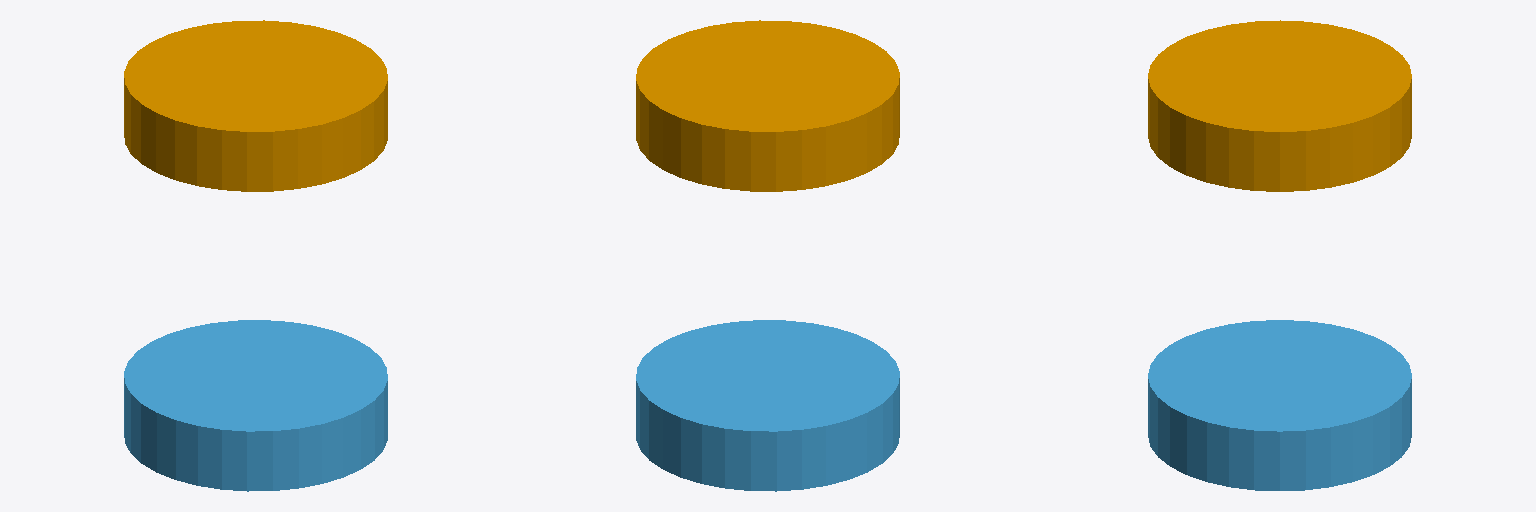
robot.urdf — testbot:
<?xml version="1.0" ?>
<!-- =================================================================================== -->
<!-- |    This document was autogenerated by xacro from ray_bot.urdf.xacro             | -->
<!-- |    EDITING THIS FILE BY HAND IS NOT RECOMMENDED                                 | -->
<!-- =================================================================================== -->
<robot name="testbot" xmlns:controller="http://playerstage.sourceforge.net/gazebo/xmlschema/#controller" xmlns:interface="http://playerstage.sourceforge.net/gazebo/xmlschema/#interface" xmlns:sensor="http://playerstage.sourceforge.net/gazebo/xmlschema/#sensor" xmlns:xacro="http://playerstage.sourceforge.net/gazebo/xmlschema/#interface">
  <link name="base_laser_link">
    <visual>
      <origin rpy="0 0 0" xyz="0 0 0"/>
      <geometry>
        <cylinder length="0.02" radius="0.04"/>
      </geometry>
      <material name="Black"/>
    </visual>
    <collision>
      <origin rpy="0 0 0" xyz="0 0 0"/>
      <geometry>
        <cylinder length="0.02" radius="0.08"/>
      </geometry>
    </collision>
    <!-- nonesense placeholder inertia -->
    <inertial>
      <mass value="0.1"/>
      <origin rpy="0 0 0" xyz="0 0 0"/>
      <inertia ixx="0.01" ixy="0.0" ixz="0.0" iyy="0.01" iyz="0.0" izz="0.01"/>
    </inertial>
    <gazebo reference="base_laser_link">
      <sensor name="base_laser" type="ray">
        <update_rate>20</update_rate>
        <topic>base_laser_topic</topic>
        <visualize>true</visualize>
        <ray>
          <scan>
            <horizontal>
              <samples>360</samples>
              <resolution>1.0</resolution>
              <min_angle>-3.1</min_angle>
              <max_angle>3.1</max_angle>
            </horizontal>
          </scan>
          <range>
            <min>0.1</min>
            <max>4.0</max>
            <resolution> 0.01</resolution>
          </range>
        </ray>
        <plugin filename="libgazebo_ros_laser.so" name="base_laser_laser_plugin">
          <gaussianNoise>0.005</gaussianNoise>
          <topicName>base_laser/scan</topicName>
          <updateRate>20</updateRate>
          <frameName>base_laser_link</frameName>
        </plugin>
      </sensor>
    </gazebo>
  </link>
  <gazebo reference="base_laser_link">
    <sensor name="base_laser" type="ray">
      <update_rate>20</update_rate>
      <topic>base_laser_topic</topic>
      <visualize>true</visualize>
      <ray>
        <scan>
          <horizontal>
            <samples>360</samples>
            <resolution>1.0</resolution>
            <min_angle>-3.1</min_angle>
            <max_angle>3.1</max_angle>
          </horizontal>
        </scan>
        <range>
          <min>0.1</min>
          <max>4.0</max>
          <resolution> 0.01</resolution>
        </range>
      </ray>
      <plugin filename="libgazebo_ros_laser.so" name="base_laser_laser_plugin">
        <gaussianNoise>0.005</gaussianNoise>
        <topicName>base_laser/scan</topicName>
        <updateRate>20</updateRate>
        <frameName>base_laser_link</frameName>
      </plugin>
    </sensor>
  </gazebo>
  <link name="base_link">
    <visual>
      <origin rpy="0 0 0" xyz="0 0 0"/>
      <geometry>
        <cylinder length="0.02" radius="0.04"/>
      </geometry>
      <material name="Black"/>
    </visual>
    <collision>
      <origin rpy="0 0 0" xyz="0 0 0"/>
      <geometry>
        <cylinder length="0.02" radius="0.08"/>
      </geometry>
    </collision>
    <!-- nonesense placeholder inertia -->
    <inertial>
      <mass value="0.1"/>
      <origin rpy="0 0 0" xyz="0 0 0"/>
      <inertia ixx="0.01" ixy="0.0" ixz="0.0" iyy="0.01" iyz="0.0" izz="0.01"/>
    </inertial>
  </link>
  <joint name="laser_link_joint" type="fixed">
    <origin rpy="0 0 3.14" xyz="0 0 .1"/>
    <axis xyz="0 0 1"/>
    <parent link="base_link"/>
    <child link="base_laser_link"/>
  </joint>
</robot>

--- Render facts (derived) ---
3 views of the same robot in one strip: view 1: azimuth 30°, elevation 25°; view 2: azimuth 150°, elevation 25°; view 3: azimuth 270°, elevation 25° (orthographic).
Robot: testbot — 2 links, 1 joints (1 fixed); root link base_link; default pose: all joints at 0.
Visible links, largest first — view 1: base_laser_link, base_link; view 2: base_link, base_laser_link; view 3: base_laser_link, base_link.
Boxes of the visible links, bbox=[...] form: base_laser_link: bbox=[124, 20, 387, 191]; base_link: bbox=[124, 320, 387, 491]; base_link: bbox=[636, 320, 899, 491]; base_laser_link: bbox=[636, 20, 899, 191]; base_laser_link: bbox=[1148, 20, 1411, 191]; base_link: bbox=[1148, 320, 1411, 490].
Size in the robot's own frame: 0.08 by 0.08 by 0.12 metres.
Geometry: primitives only (box / cylinder / sphere), no mesh files.
